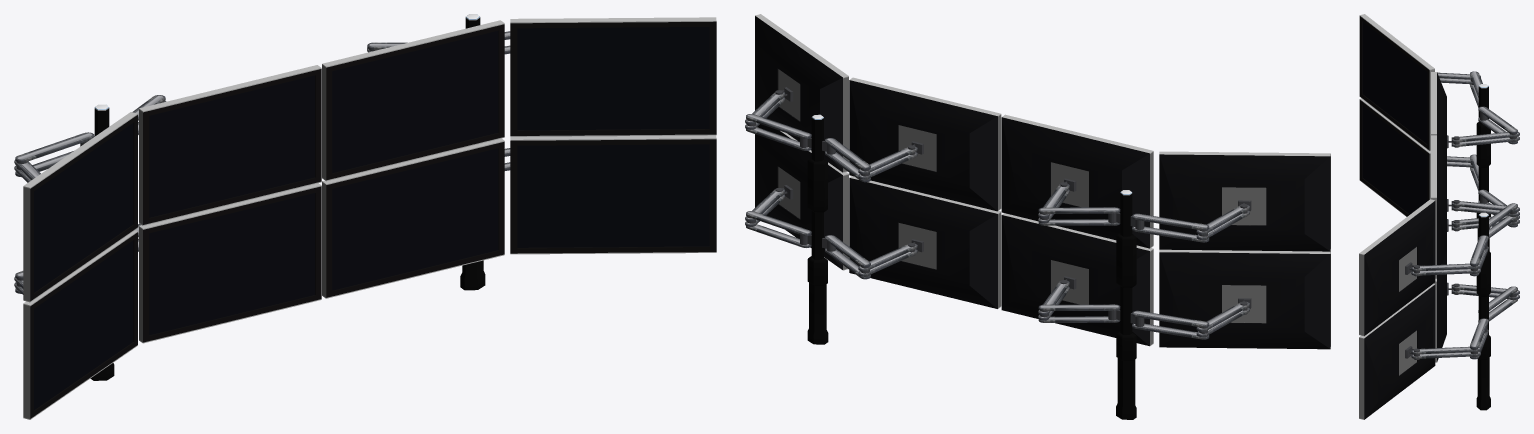
Rendered from 8Monitors.fbx.
3 renders of one model, left to right at view 1: azimuth 30°, elevation 25°; view 2: azimuth 150°, elevation 25°; view 3: azimuth 270°, elevation 25°, orthographic. The views are drawn at different scales.
Visible parts, largest first — view 1: Mesh; view 2: Mesh; view 3: Mesh.
Part boxes in pixels (bbox=[...]): Mesh: bbox=[14, 14, 716, 419]; Mesh: bbox=[745, 14, 1330, 419]; Mesh: bbox=[1359, 14, 1519, 419].
Size of the model in its own units: 200 by 80.33 by 56.4.
